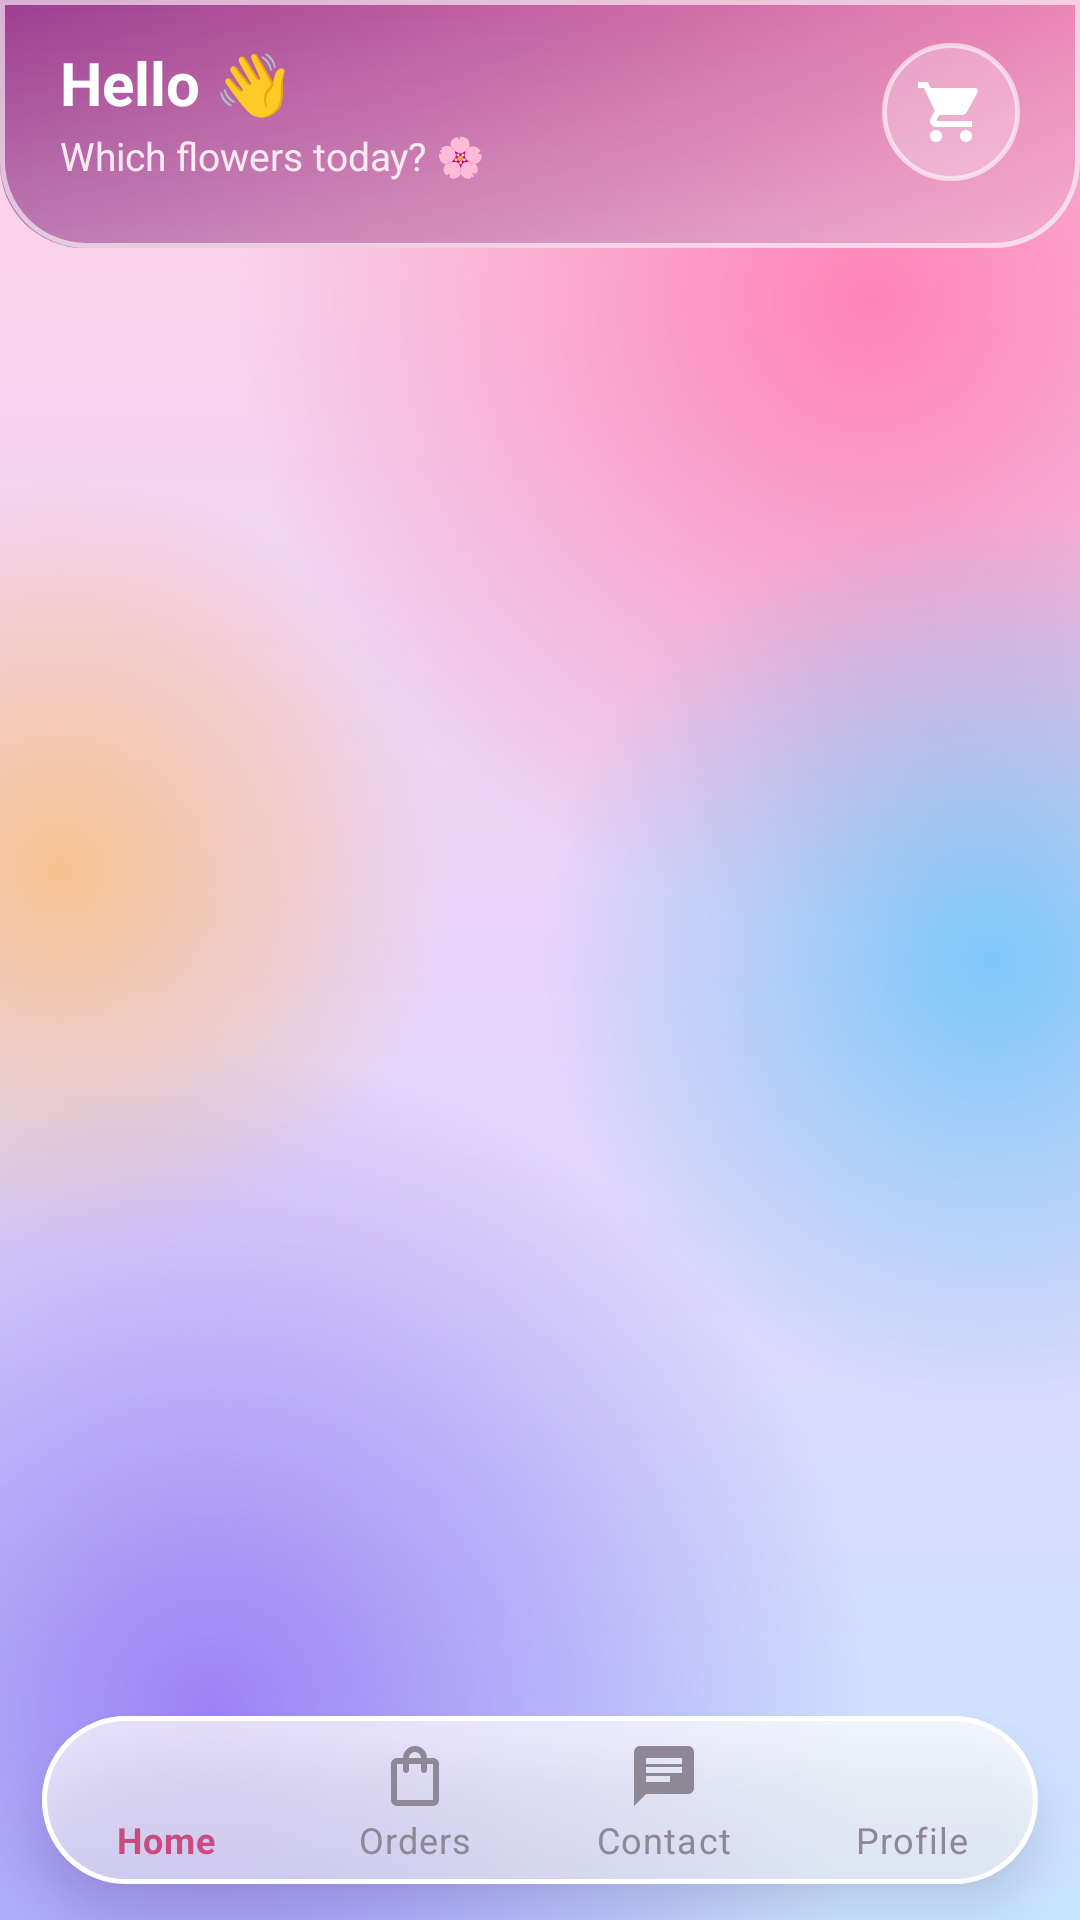

Named icons in this screenshot (1080*1920) and their centers, [x,y]:
Cart: [951,112]
